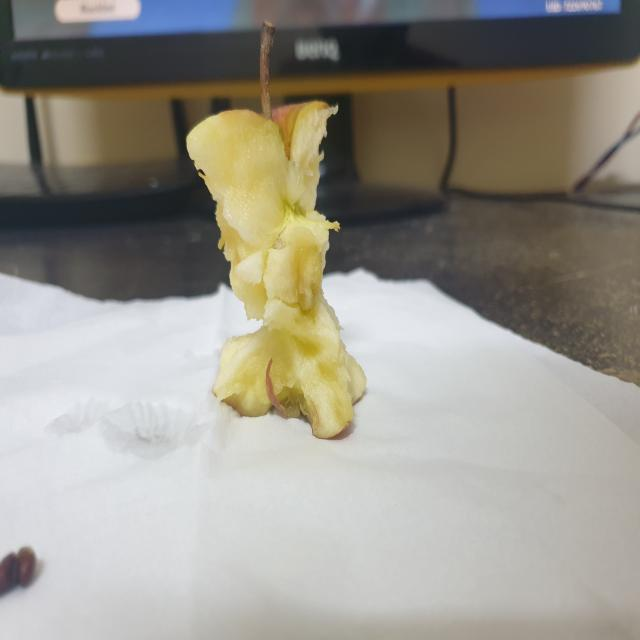apple: (182, 18, 374, 454)
